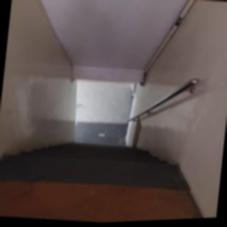Animal: (38, 118, 139, 177)
